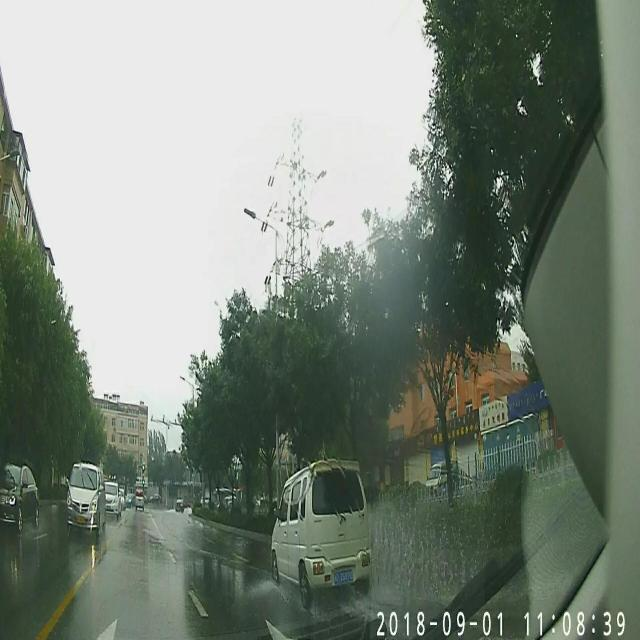car: (270, 458, 372, 598), (64, 462, 106, 534), (0, 459, 39, 528), (424, 460, 461, 501), (100, 478, 122, 518), (132, 490, 146, 510), (172, 496, 186, 514)
